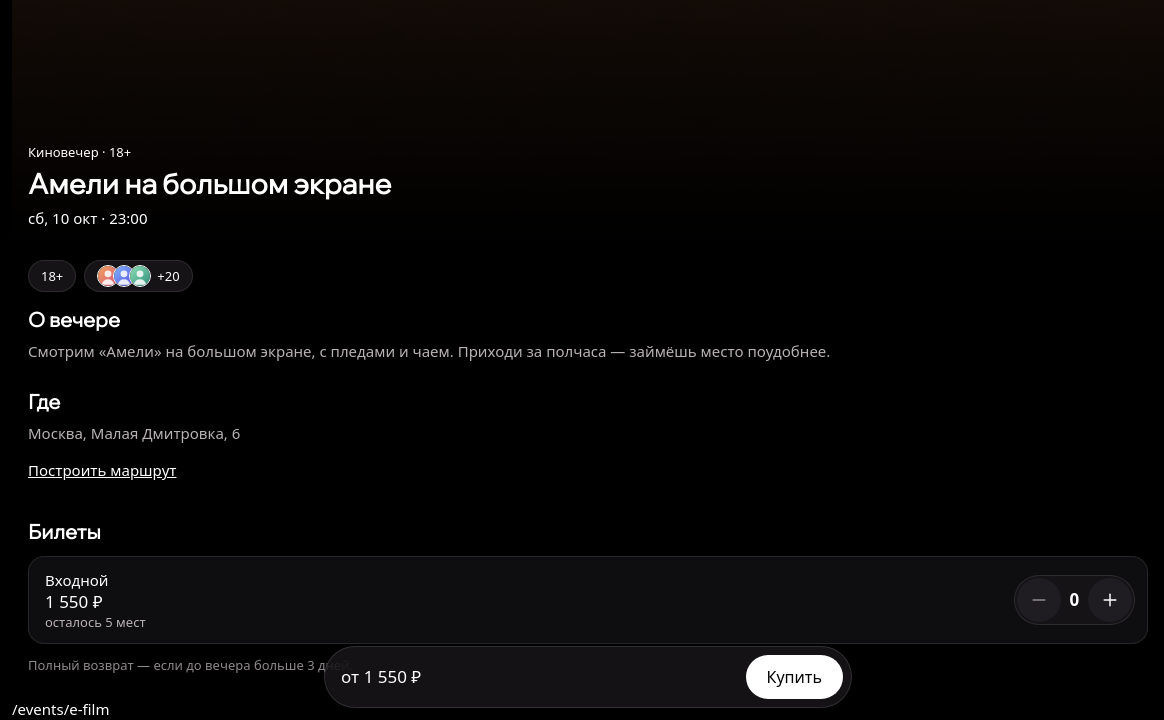
EventScreen › starts the bottom bar at the lowest price, then sums the cart there
The image size is (1164, 720).
(page scrolled)
Check: the heading "Амели на большом экране" is shown, box [28, 166, 391, 201]
Check: the text "от 1 550 ₽" is shown, box [341, 665, 421, 688]
Click the button named "Входной: 0 билетов. Добавить". click: (1110, 600)
box: [1088, 578, 1132, 622]
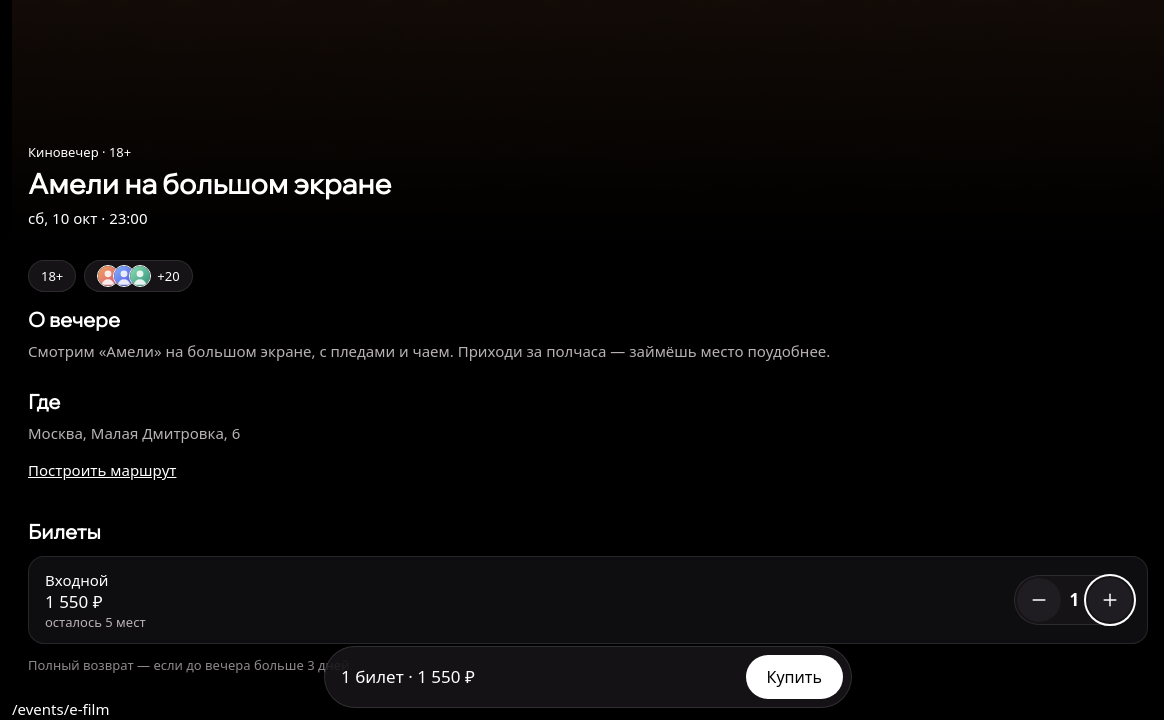
Click the button named "Входной: 1 билет. Добавить". click: (1110, 600)
box: [1088, 578, 1132, 622]
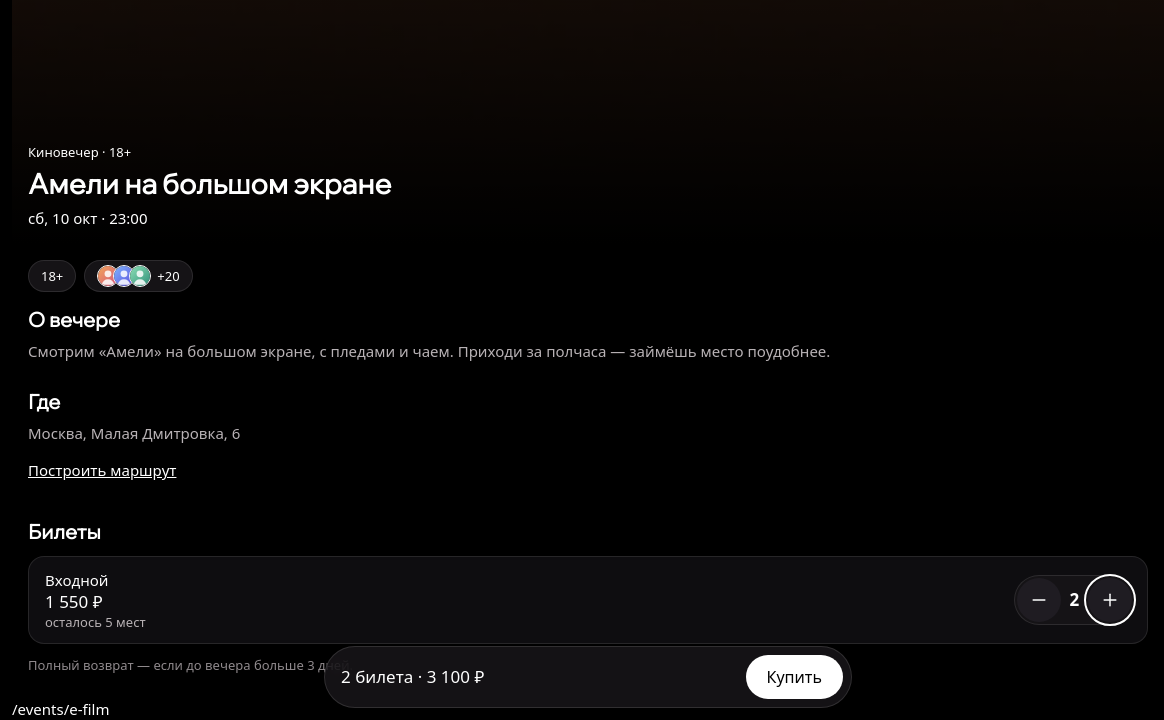
Check: the text "от 1 550 ₽" is not shown
Check: the text "2 билета · 3 100 ₽" is shown, box [341, 665, 484, 688]
